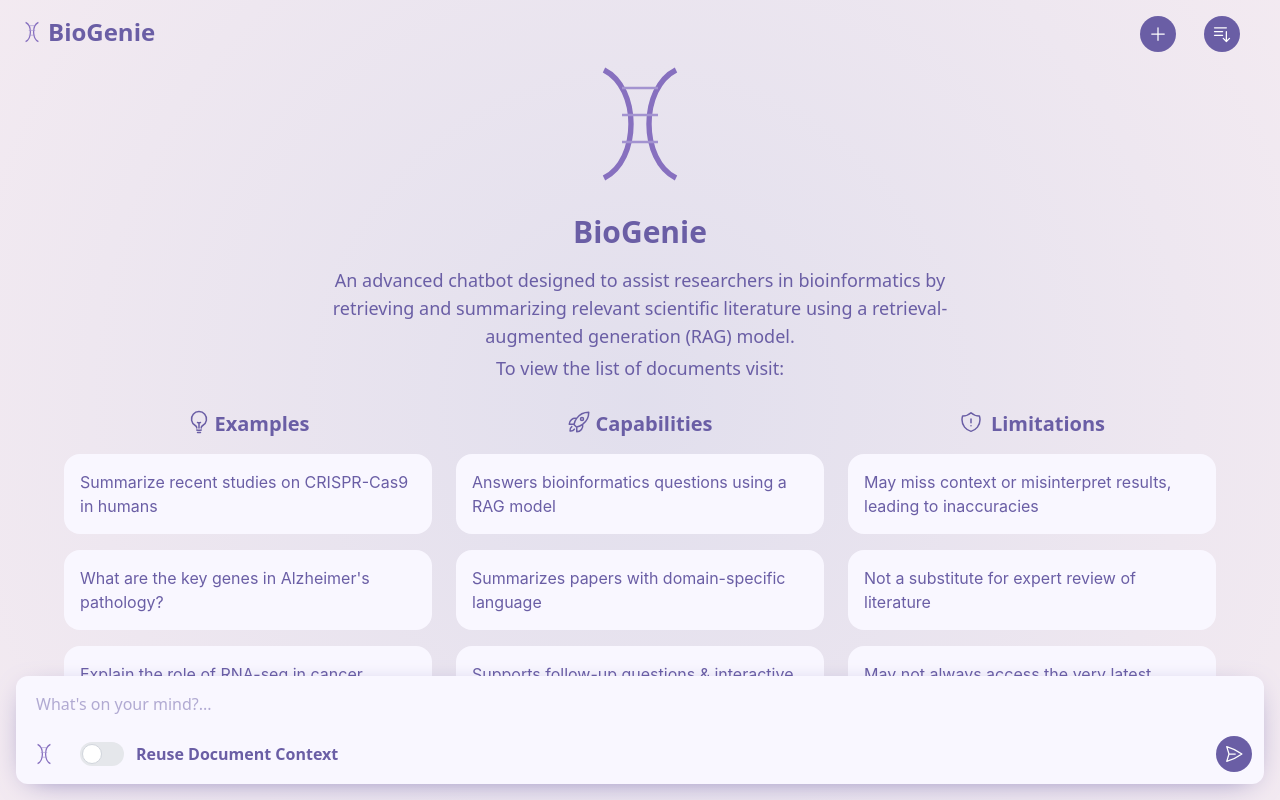
Chat Page › displays error when submitting empty input
Note: Click the submit button without entering any text
Click the button with test id "submitButton" at (1234, 754), box [1216,736,1252,772]
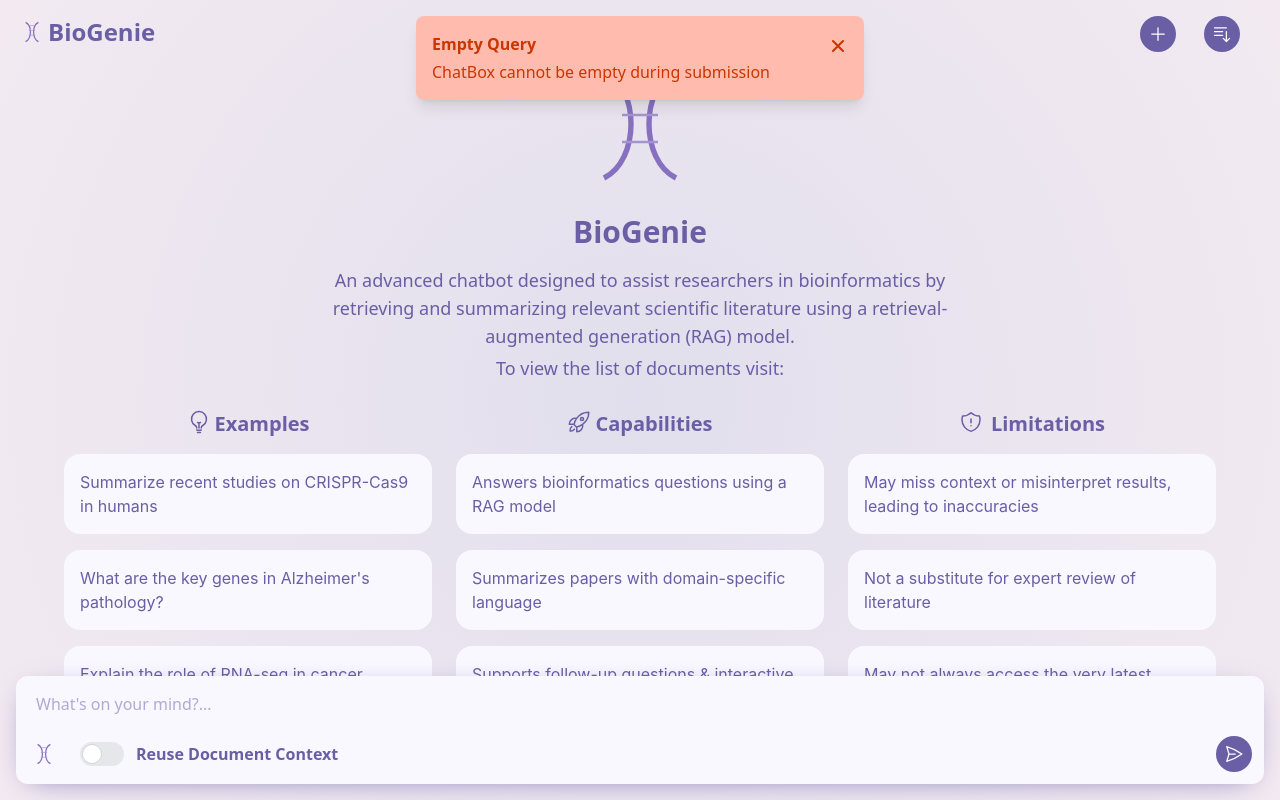
Check: the text "ChatBox cannot be empty during submission" is shown, box [432,61,770,83]
